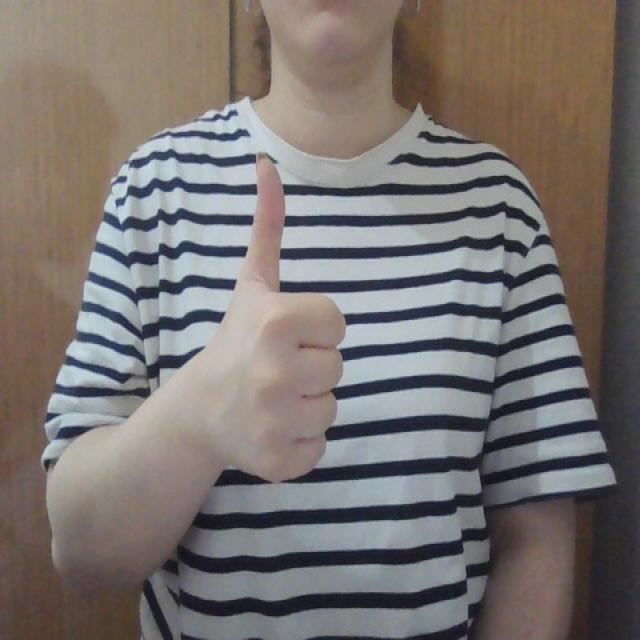Tamam: (196, 146, 361, 492)
